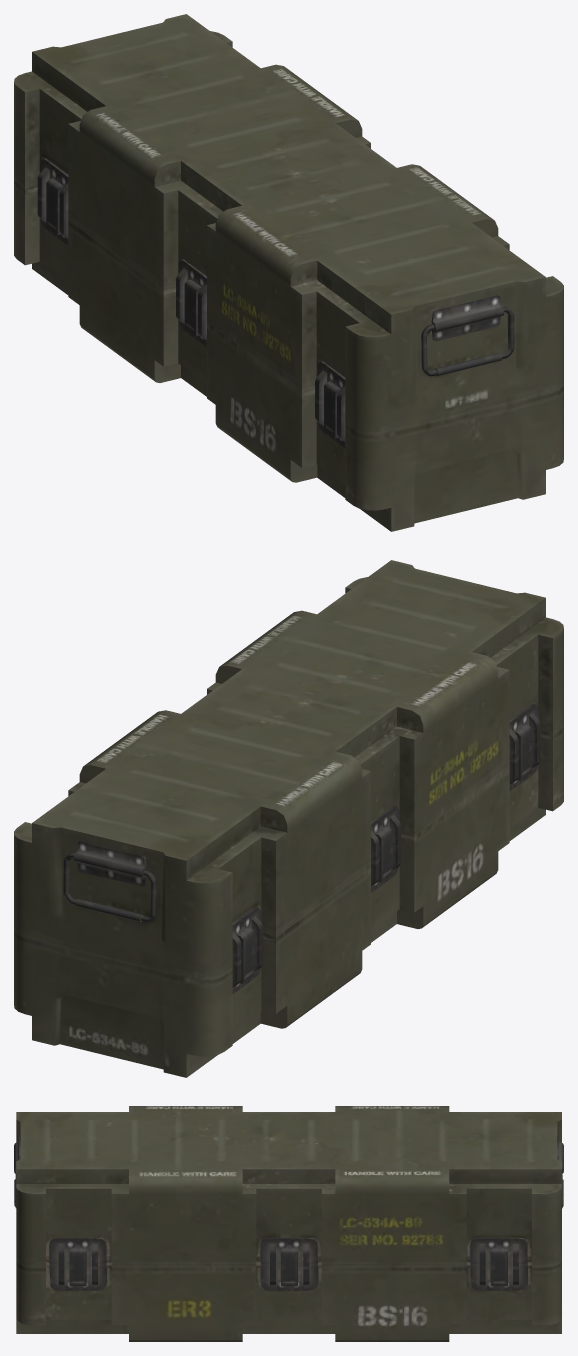
File: airdrop-crate.lod0.glb
3 renders of one model, top to bottom at view 1: azimuth 30°, elevation 25°; view 2: azimuth 150°, elevation 25°; view 3: azimuth 270°, elevation 25°, orthographic. The views are drawn at different scales.
Parts seen in each view (by area): view 1: Object_3; view 2: Object_3; view 3: Object_3.
Boxes of the visible parts, x1,y1,x2,y2 form: Object_3: [14, 14, 563, 531]; Object_3: [14, 560, 563, 1077]; Object_3: [14, 1106, 563, 1341].
Bounding box in the file's own units: 0.6612 × 0.6612 × 2.
Materials: 1 (1 with a texture image).
